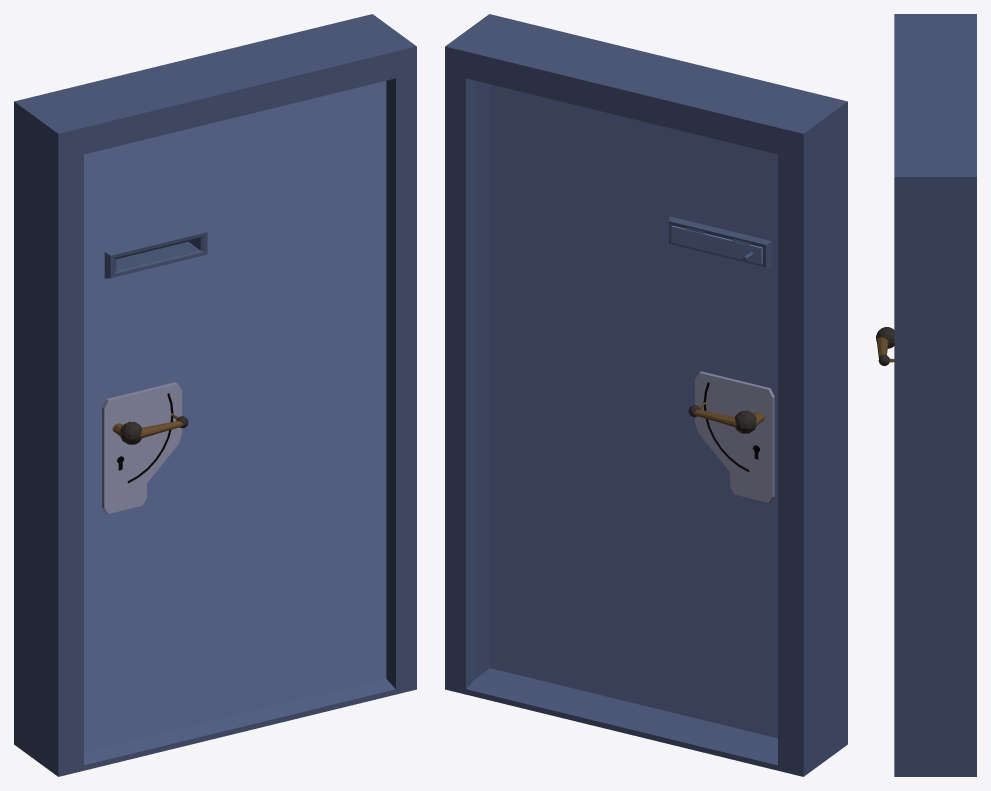
Rendered from sanatorium-door.fbx.
The picture shows the model from 3 angles, left to right: view 1: azimuth 30°, elevation 25°; view 2: azimuth 150°, elevation 25°; view 3: azimuth 270°, elevation 25°; orthographic projection. The views are drawn at different scales.
Parts seen in each view (by area): view 1: door.001, frame, handle; view 2: door.001, frame, vision-door, handle; view 3: frame, handle.
Boxes of the visible parts, x1=… form: door.001: x1=84, y1=81, x2=386, y2=752; frame: x1=14, y1=14, x2=416, y2=776; handle: x1=112, y1=413, x2=188, y2=444; door.001: x1=490, y1=84, x2=777, y2=738; frame: x1=445, y1=14, x2=847, y2=776; vision-door: x1=671, y1=225, x2=762, y2=264; handle: x1=688, y1=402, x2=764, y2=433; frame: x1=894, y1=14, x2=976, y2=776; handle: x1=876, y1=327, x2=894, y2=365.
Size of the model in its own units: 1.4 by 0.3661 by 2.4.
Materials: 1 (1 with a texture image).
